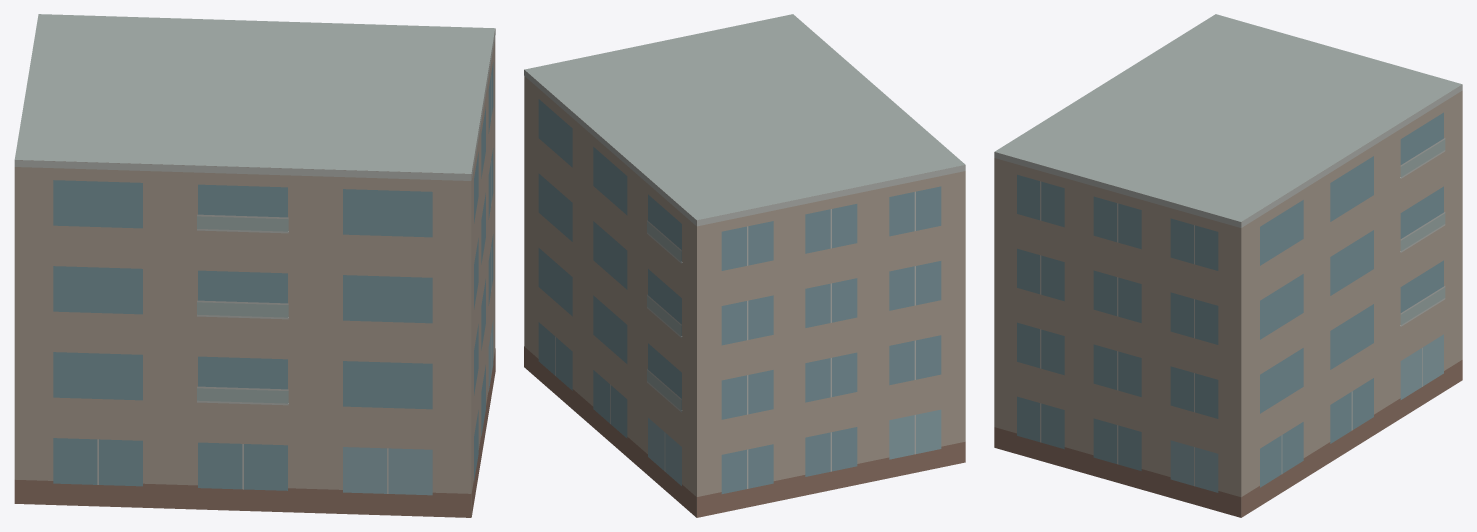
File: survey-upis-32717877.glb
3 renders of one model, left to right at view 1: azimuth 30°, elevation 25°; view 2: azimuth 150°, elevation 25°; view 3: azimuth 270°, elevation 25°, orthographic. The views are drawn at different scales.
Parts seen in each view (by area): view 1: survey-upis-32717877.tmp; view 2: survey-upis-32717877.tmp; view 3: survey-upis-32717877.tmp.
Boxes of the visible parts, x1,y1,x2,y2 form: survey-upis-32717877.tmp: (14,14,495,517); survey-upis-32717877.tmp: (524,14,965,517); survey-upis-32717877.tmp: (994,14,1462,517).
Size of the model in its own units: 17.88 by 11.85 by 17.01.
